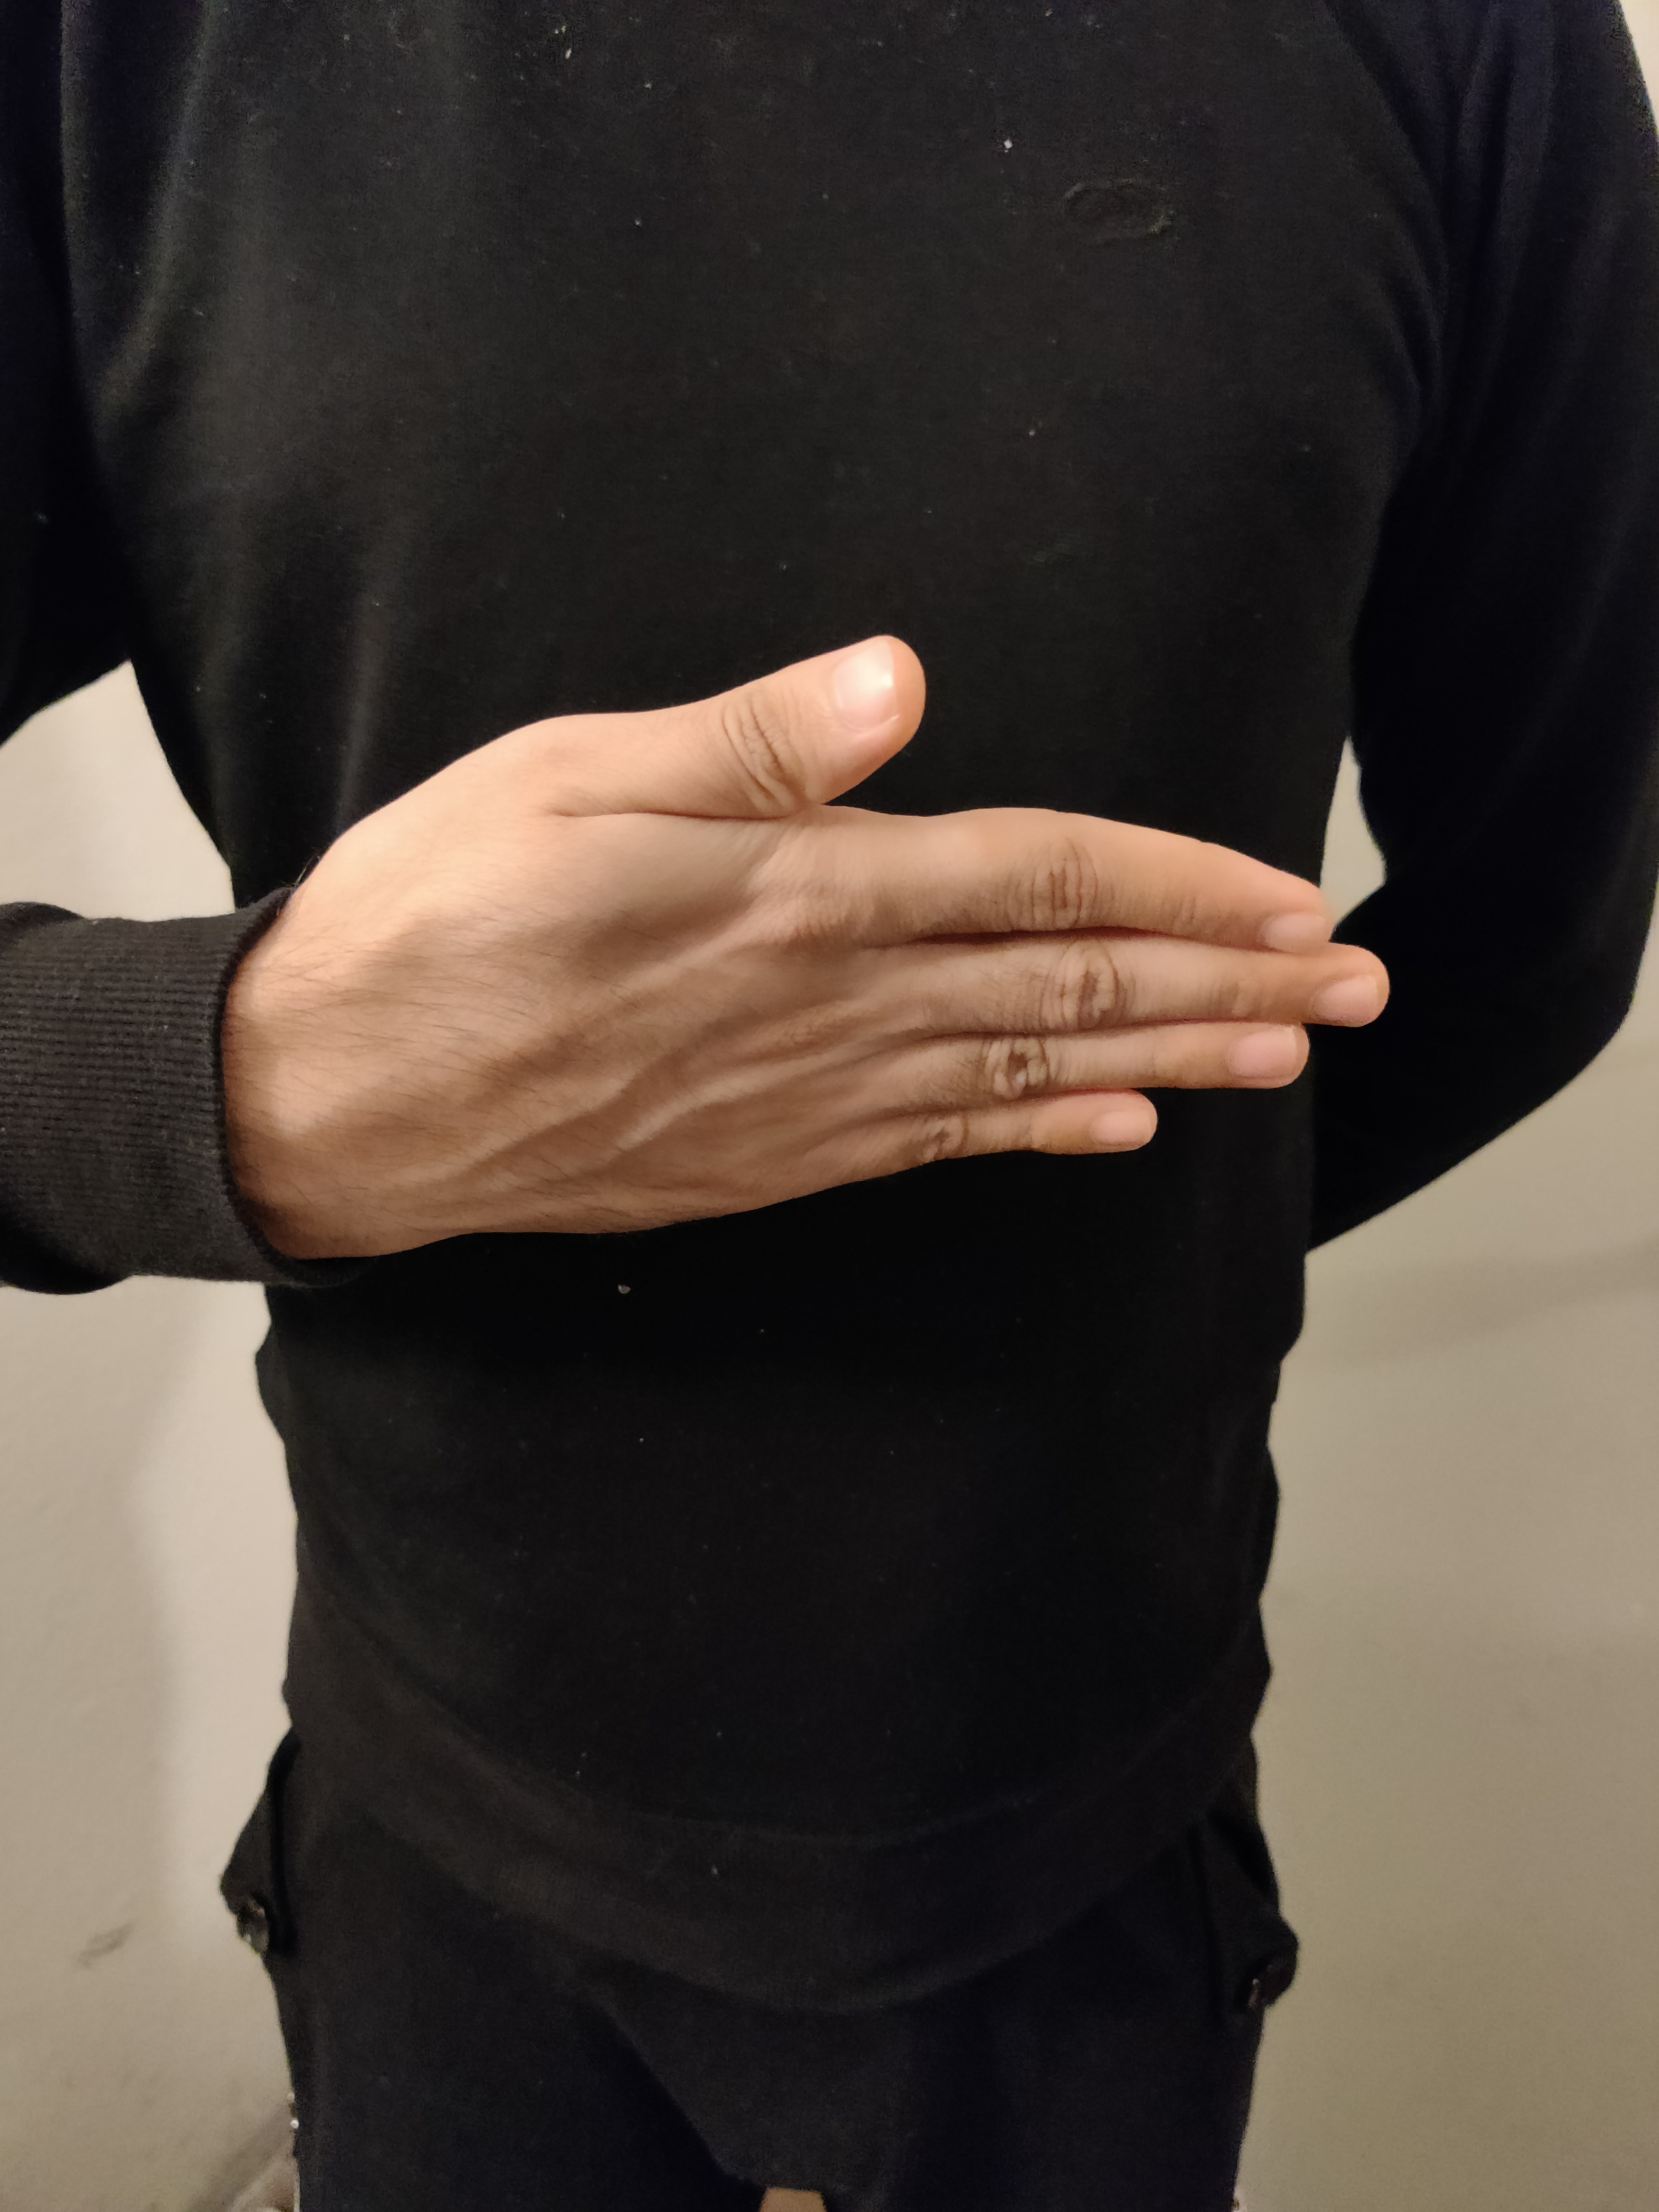left: (40, 531, 1450, 1308)
